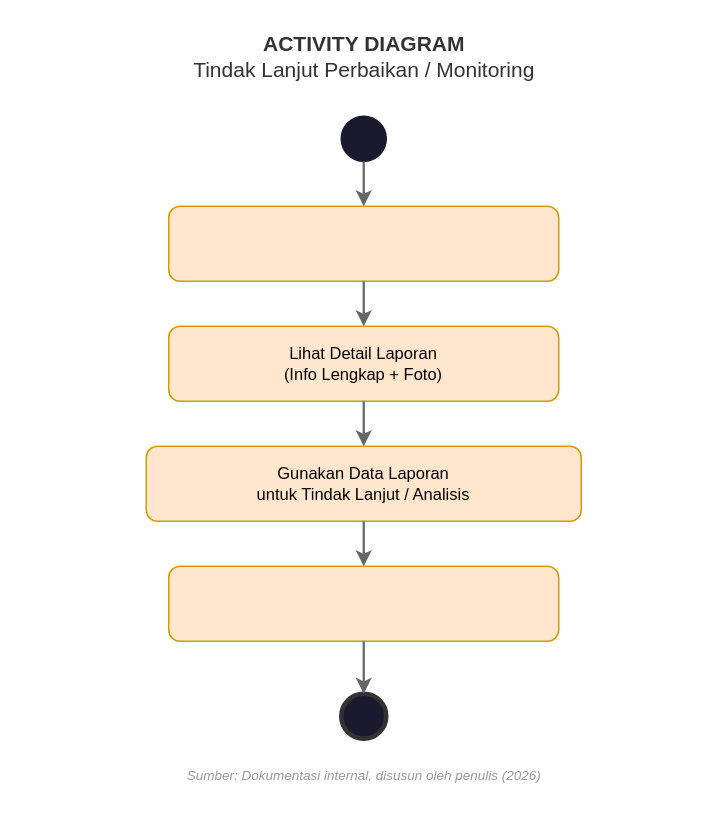
This 726x816 diagram has some shape labels left out. The centre of each missing label's shape, as x and y in pixels:
Catat Hasil Tindak Lanjut Perbaikan: point (363, 603)
Pilih Laporan Tervalidasi dari Daftar: point (363, 243)
